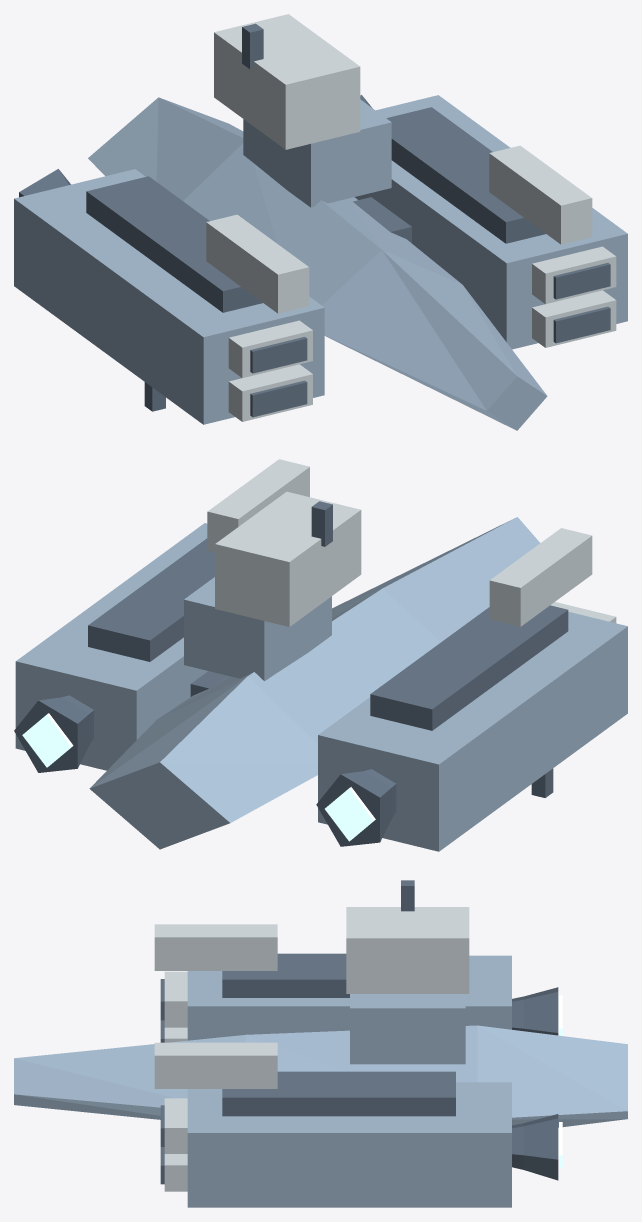
The picture shows the model from 3 angles, top to bottom: view 1: azimuth 30°, elevation 25°; view 2: azimuth 150°, elevation 25°; view 3: azimuth 270°, elevation 25°; orthographic projection. The views are drawn at different scales.
Bounding box in the file's own units: 13.64 × 9.06 × 19.97.
